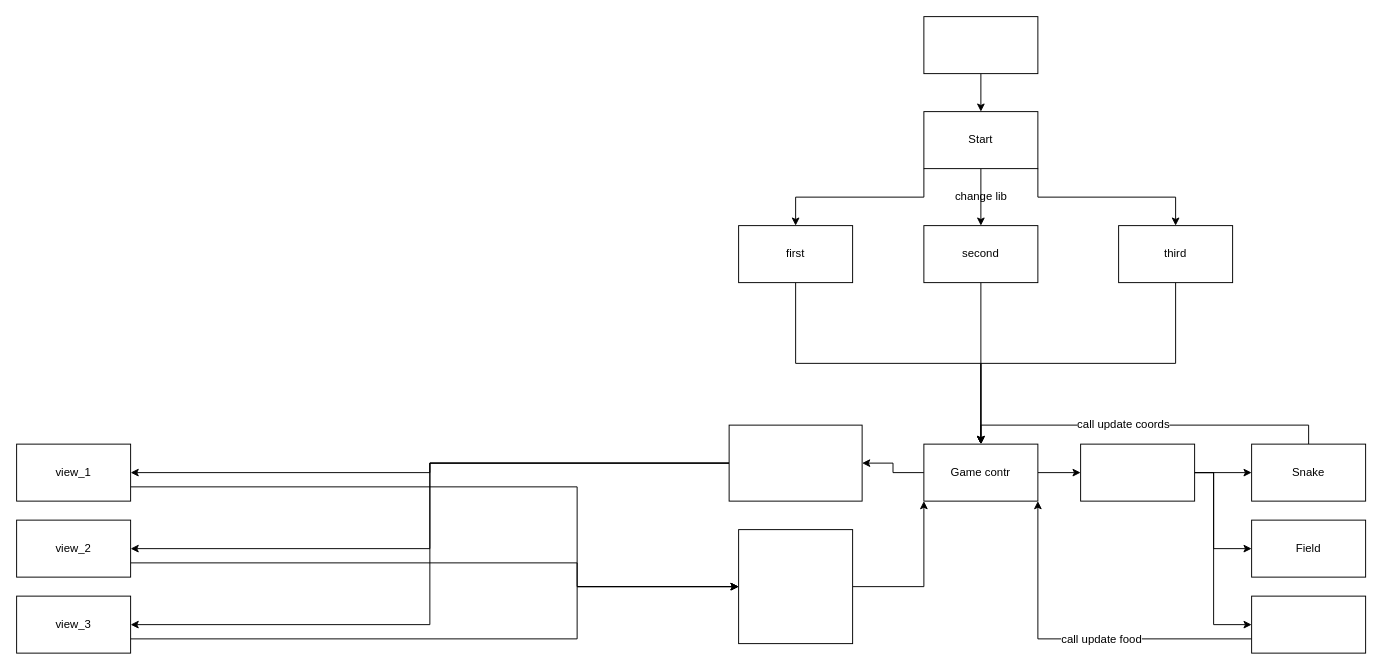
Image size: 1382x670. Some labels were removed from this diagram. Each missing label, with the box of its shape:
Call rotate: (1080, 443, 1195, 501)
call update food or coords of snake: (728, 424, 862, 501)
catch buttons left right esc mouse_move: (738, 529, 853, 644)
Main menu contr: (923, 16, 1038, 74)
Storage: (1251, 595, 1366, 653)
